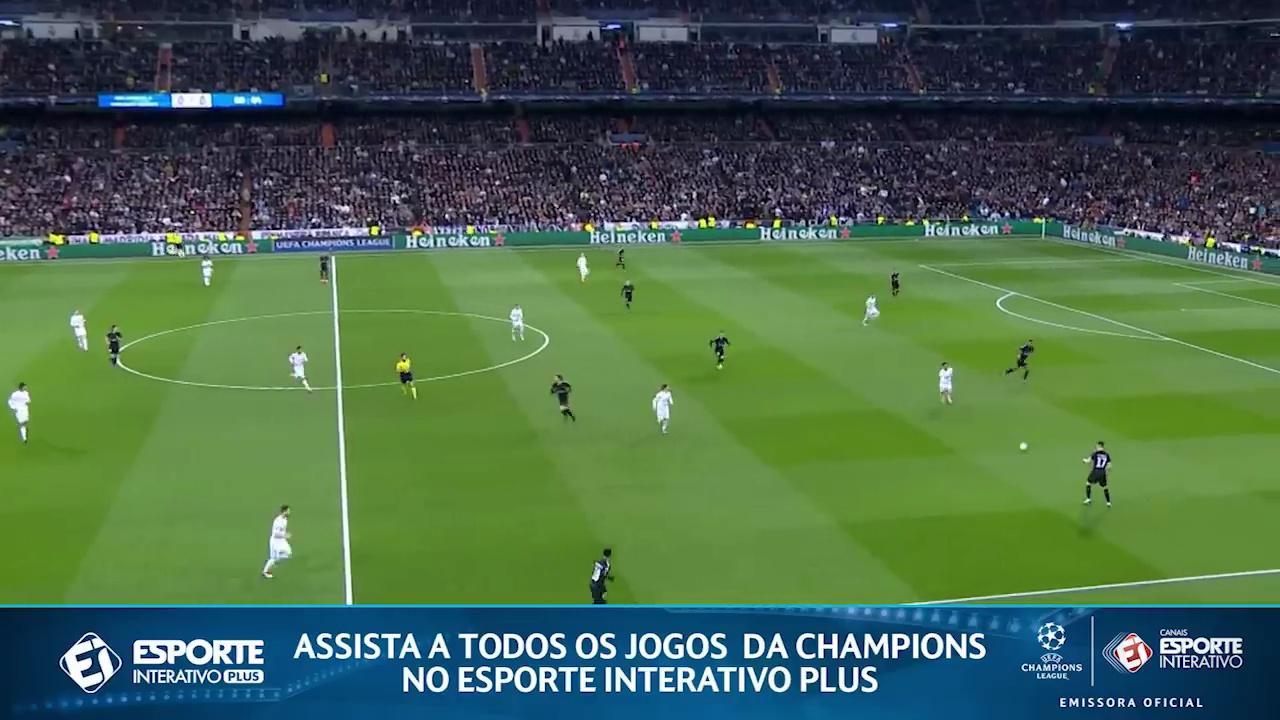football: (1014, 437, 1031, 458)
player: (262, 504, 291, 578), (1083, 441, 1111, 506), (7, 383, 30, 442), (590, 548, 612, 604), (550, 374, 575, 421), (1005, 339, 1034, 379), (652, 384, 673, 434), (288, 346, 311, 391), (709, 331, 730, 369), (69, 310, 87, 350), (106, 325, 123, 366), (938, 362, 953, 404), (862, 294, 879, 325), (509, 304, 523, 339), (576, 253, 589, 282), (621, 280, 633, 309), (201, 255, 212, 286), (319, 255, 329, 283), (890, 271, 899, 296), (615, 248, 624, 269)
referee: (395, 353, 416, 399)
